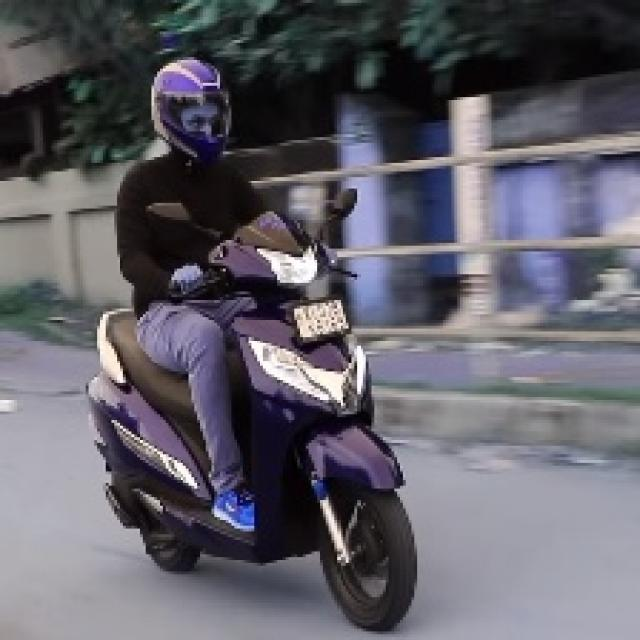bike: (71, 230, 428, 639)
